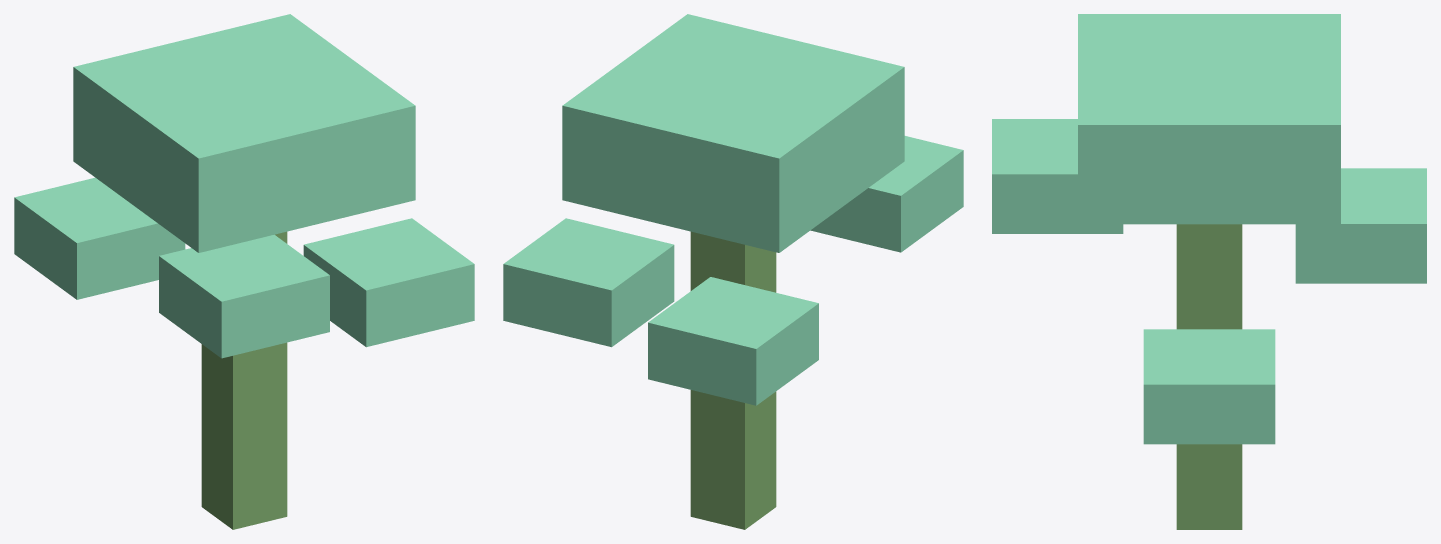
The model's file is Prop_DS_Herb_CacheLeaf_S2.glb.
The picture shows the model from 3 angles, left to right: view 1: azimuth 30°, elevation 25°; view 2: azimuth 150°, elevation 25°; view 3: azimuth 270°, elevation 25°; orthographic projection. The views are drawn at different scales.
Visible parts, largest first — view 1: Cube.004, Cube.003, Cube.001, Cube, Cube.002; view 2: Cube.004, Cube.001, Cube.002, Cube, Cube.003; view 3: Cube.004, Cube.001, Cube, Cube.002, Cube.003.
Part boxes in pixels (x1,y1,x2,y2): Cube.004: (73, 14, 415, 252); Cube.003: (159, 234, 329, 358); Cube.001: (303, 218, 474, 347); Cube: (201, 231, 287, 529); Cube.002: (14, 177, 185, 299); Cube.004: (562, 14, 904, 252); Cube.001: (503, 218, 674, 347); Cube.002: (648, 277, 818, 405); Cube: (690, 231, 776, 529); Cube.003: (810, 136, 963, 252); Cube.004: (1078, 14, 1340, 224); Cube.001: (1143, 329, 1275, 444); Cube: (1176, 224, 1242, 529); Cube.002: (1295, 168, 1426, 283); Cube.003: (992, 119, 1123, 233).
Size of the model in its own units: 0.36 by 0.45 by 0.3971.
